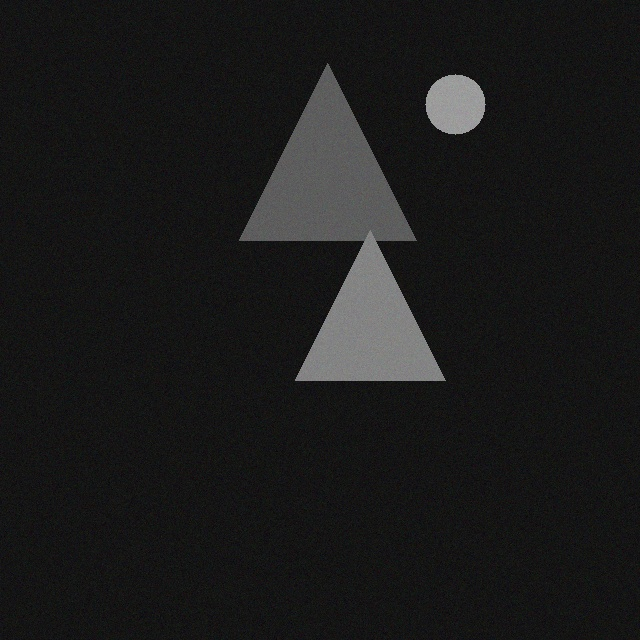circle: (437, 89, 497, 149)
triangle: (251, 78, 428, 255), (307, 245, 457, 395)
